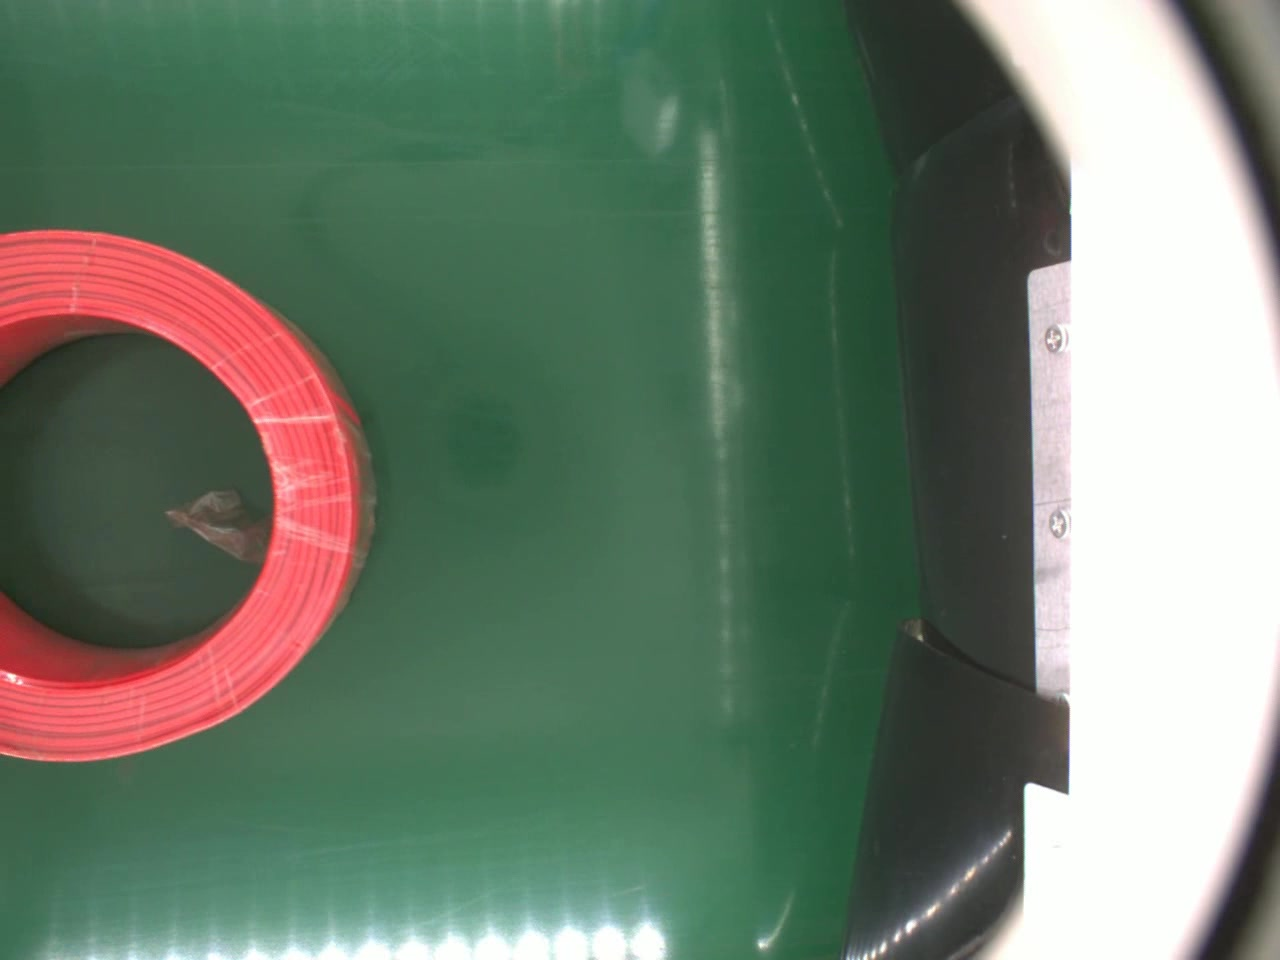red: (0, 227, 378, 766)
